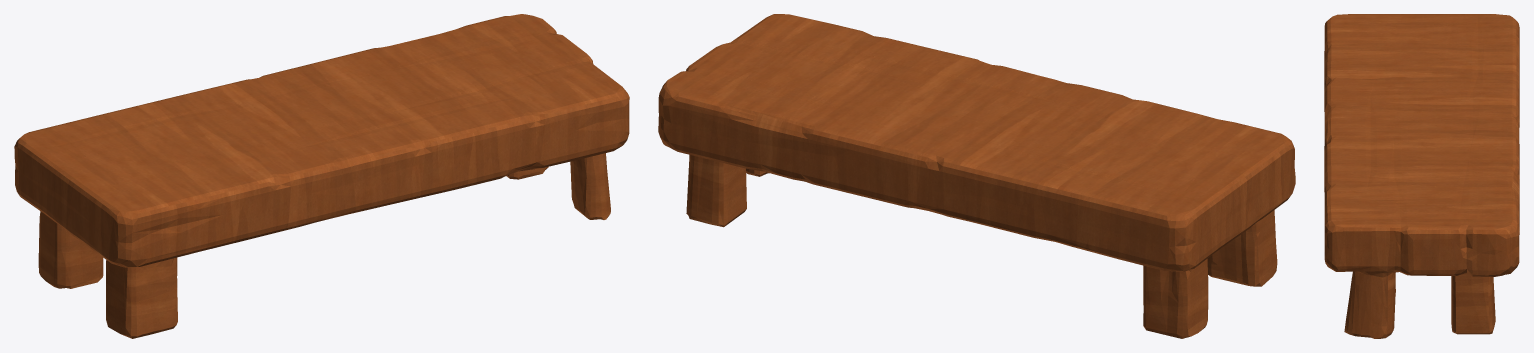
File: DogBowlStand_Unity_MaterialSeparated.fbx
3 views of the same model, side by side, from view 1: azimuth 30°, elevation 25°; view 2: azimuth 150°, elevation 25°; view 3: azimuth 270°, elevation 25° (orthographic). The views are drawn at different scales.
Visible parts, largest first — view 1: DogBowlStand; view 2: DogBowlStand; view 3: DogBowlStand.
Boxes of the visible parts, box(x1,y1,x2,y2) form: DogBowlStand: box(14, 14, 629, 338); DogBowlStand: box(658, 14, 1295, 338); DogBowlStand: box(1324, 14, 1519, 338).
Size of the model in its own units: 1.95 by 0.4687 by 0.735.
